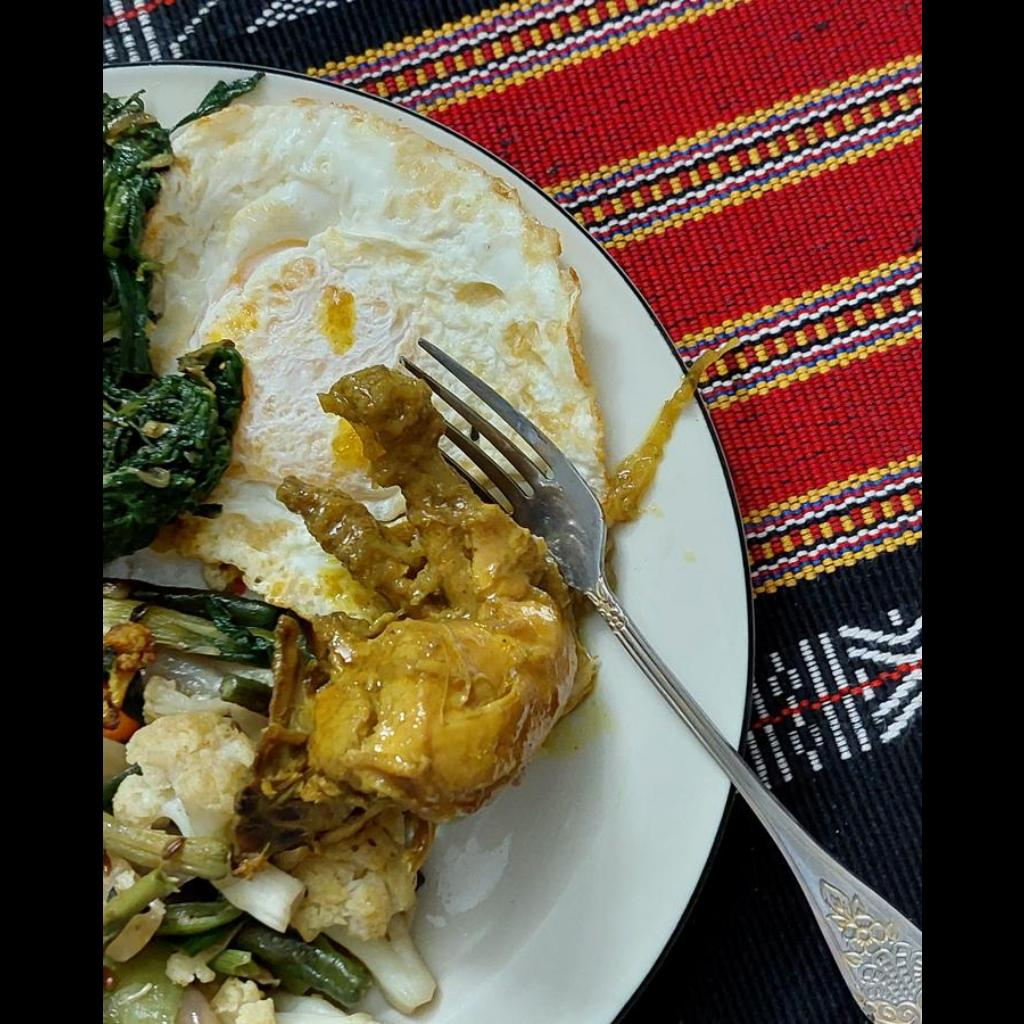chicken: (261, 360, 605, 825)
egg-poached: (155, 105, 607, 603)
shak: (102, 91, 240, 563)
vegetable: (102, 582, 441, 1023)
